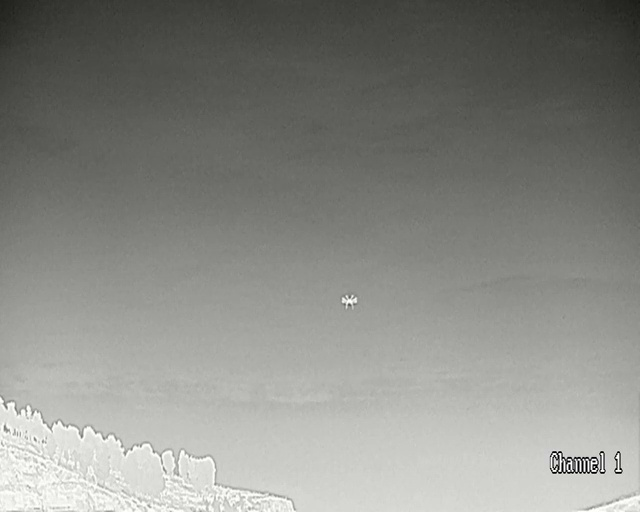uav: (341, 294, 356, 310)
